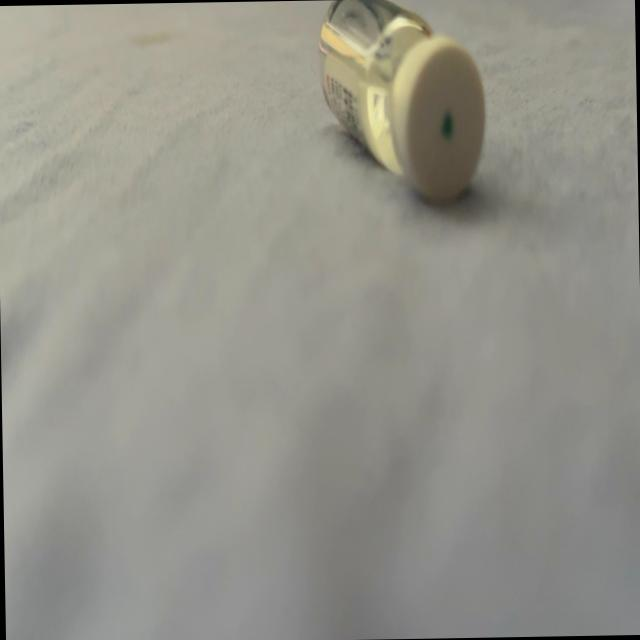fentanl_citrat: (319, 0, 484, 202)
